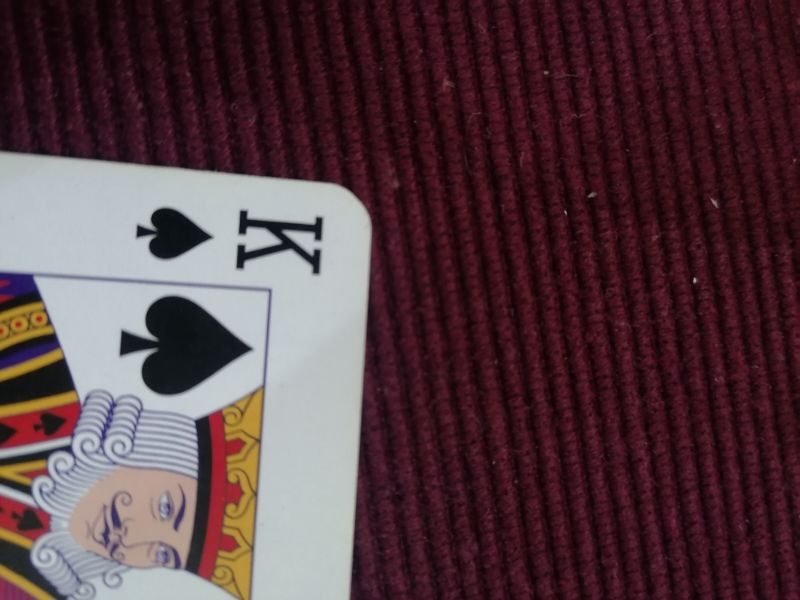Ks: (128, 198, 332, 282)
